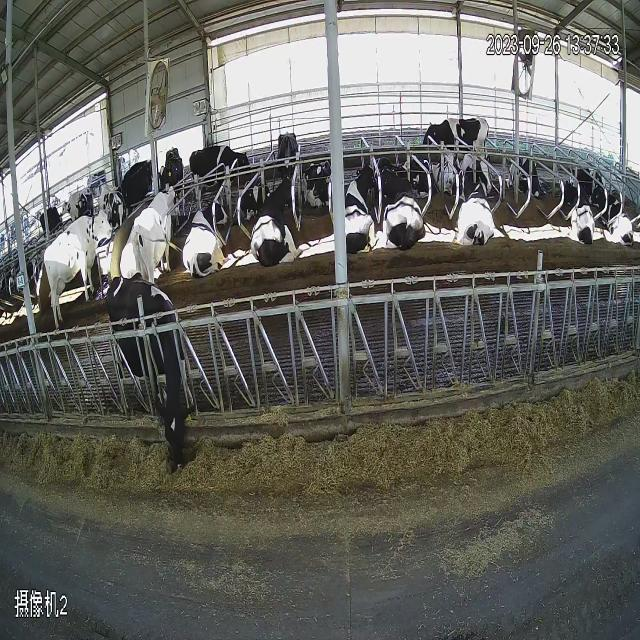feeding: (107, 276, 197, 476)
lying down: (379, 166, 454, 312), (250, 168, 300, 276), (344, 161, 382, 267), (458, 173, 502, 254)
standing: (420, 111, 502, 176)
